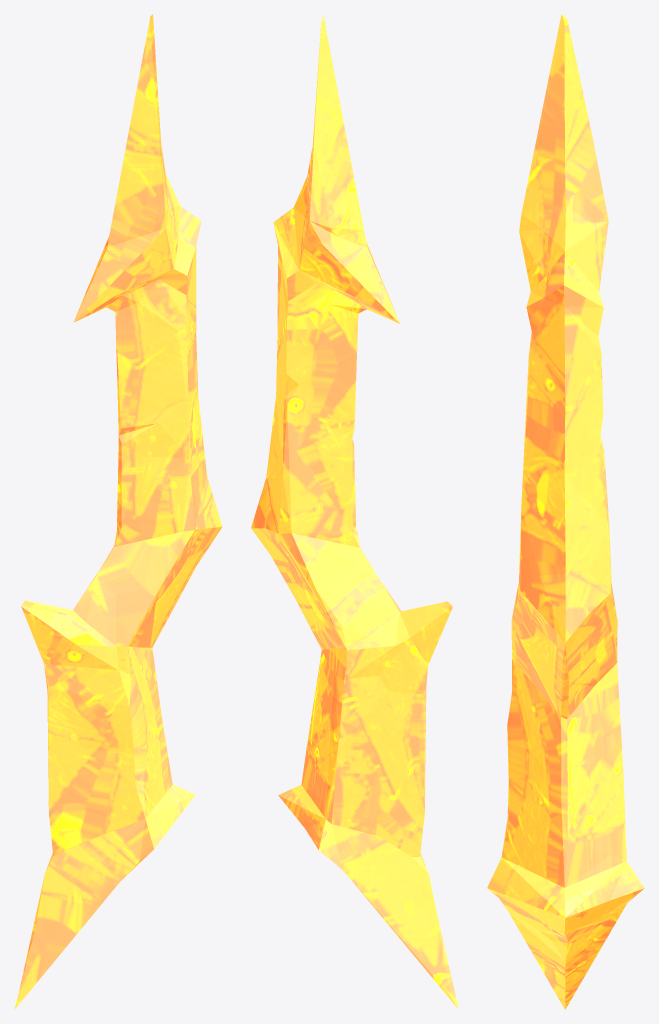
The model's file is FSpikeA.fbx.
The picture shows the model from 3 angles, left to right: view 1: azimuth 30°, elevation 25°; view 2: azimuth 150°, elevation 25°; view 3: azimuth 270°, elevation 25°; orthographic projection. The views are drawn at different scales.
Parts seen in each view (by area): view 1: HL_Fortress_Spike_A.mo; view 2: HL_Fortress_Spike_A.mo; view 3: HL_Fortress_Spike_A.mo.
Boxes of the visible parts, <box> form: HL_Fortress_Spike_A.mo: <box>14,14,222,1009</box>; HL_Fortress_Spike_A.mo: <box>251,14,458,1009</box>; HL_Fortress_Spike_A.mo: <box>487,14,644,1009</box>.
Size of the model in its own units: 313 by 1384 by 185.
